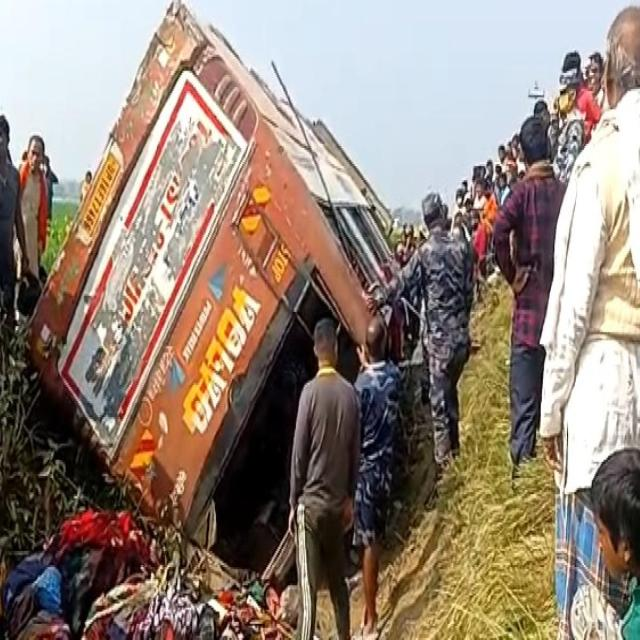accident: (29, 2, 391, 568)
